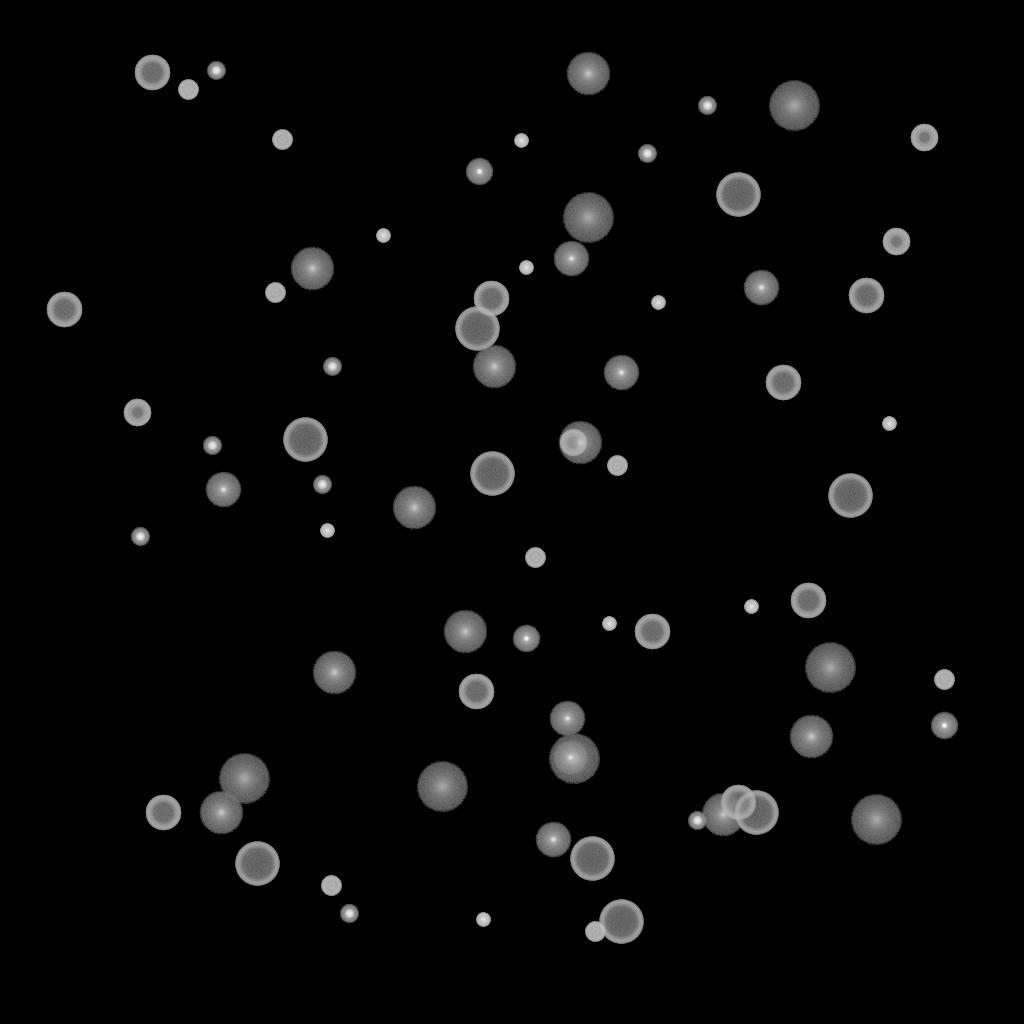depth:-10: (930, 712, 958, 740), (512, 625, 540, 653), (465, 158, 493, 186)
depth:-20: (203, 437, 221, 455), (688, 812, 706, 830), (313, 476, 331, 494), (340, 905, 358, 923), (698, 97, 716, 115), (207, 62, 225, 80), (323, 358, 341, 376), (131, 528, 149, 546), (638, 145, 656, 163)
depth:-30: (519, 261, 533, 275), (651, 296, 665, 310), (476, 913, 490, 927), (882, 417, 896, 431), (602, 617, 616, 631), (376, 229, 390, 243), (320, 524, 334, 538), (744, 600, 758, 614), (514, 134, 528, 148)
depth:-40: (321, 876, 341, 896), (607, 456, 627, 476), (178, 80, 198, 100), (585, 922, 605, 942), (525, 548, 545, 568), (265, 283, 285, 303), (272, 130, 292, 150), (934, 670, 954, 690)
depth:-50: (882, 228, 910, 256), (123, 399, 151, 427), (910, 124, 938, 152), (559, 429, 587, 457)
depth:-60: (46, 292, 82, 328), (458, 674, 494, 710), (634, 614, 670, 650), (473, 281, 509, 317), (134, 55, 170, 91), (720, 785, 756, 821), (145, 795, 181, 831), (765, 365, 801, 401), (848, 278, 884, 314), (790, 583, 826, 619)
depth:-70: (734, 791, 778, 835), (283, 418, 327, 462), (470, 452, 514, 496), (455, 307, 499, 351), (235, 842, 279, 886), (716, 173, 760, 217), (570, 837, 614, 881), (599, 900, 643, 944), (828, 474, 872, 518)
depth:0: (553, 241, 589, 277), (205, 472, 241, 508), (552, 740, 588, 776), (743, 270, 779, 306), (603, 355, 639, 391), (549, 701, 585, 737), (535, 822, 571, 858)
depth:10: (558, 421, 602, 465), (290, 247, 334, 291), (443, 610, 487, 654), (566, 52, 610, 96), (392, 486, 436, 530), (789, 715, 833, 759), (199, 791, 243, 835), (701, 793, 745, 837), (312, 651, 356, 695), (472, 345, 516, 389)
depth:20: (548, 734, 600, 784), (562, 193, 614, 243), (416, 762, 468, 812), (850, 795, 902, 845), (218, 754, 270, 804), (804, 643, 856, 693), (768, 81, 820, 131)
